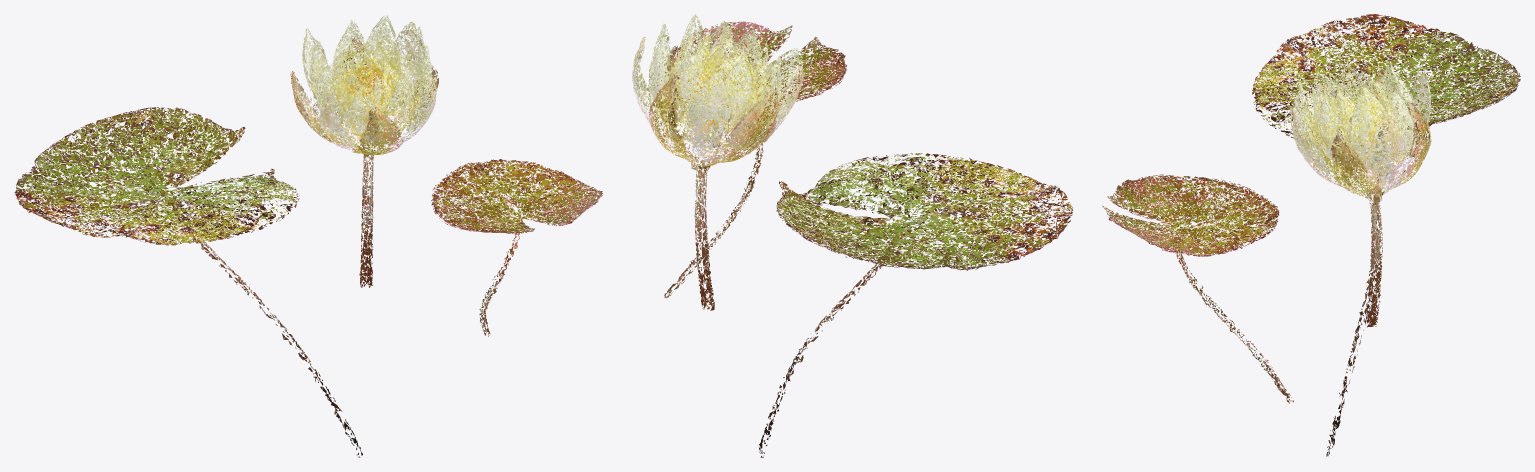
Rendered from lily.glb.
3 renders of one model, left to right at view 1: azimuth 30°, elevation 25°; view 2: azimuth 150°, elevation 25°; view 3: azimuth 270°, elevation 25°, orthographic. The views are drawn at different scales.
Parts seen in each view (by area): view 1: Object_25, Object_33, Object_12, Object_18, Object_6; view 2: Object_25, Object_12, Object_6, Object_18, Object_33; view 3: Object_25, Object_33, Object_12, Object_6, Object_18.
Boxes of the visible parts, box(x1,y1,x2,y2) form: Object_25: box(14, 107, 362, 457); Object_33: box(431, 159, 602, 336); Object_12: box(291, 15, 436, 287); Object_18: box(291, 16, 438, 286); Object_6: box(290, 20, 438, 287); Object_25: box(759, 153, 1072, 457); Object_12: box(632, 17, 802, 310); Object_6: box(634, 21, 803, 301); Object_18: box(632, 14, 803, 309); Object_33: box(654, 21, 847, 298); Object_25: box(1252, 14, 1520, 456); Object_33: box(1102, 174, 1293, 403); Object_12: box(1291, 61, 1430, 327); Object_6: box(1290, 61, 1431, 324); Object_18: box(1292, 63, 1430, 322).
Bounding box in the file's own units: 15.95 × 13.33 × 12.68.
5 materials, 5 textured.
